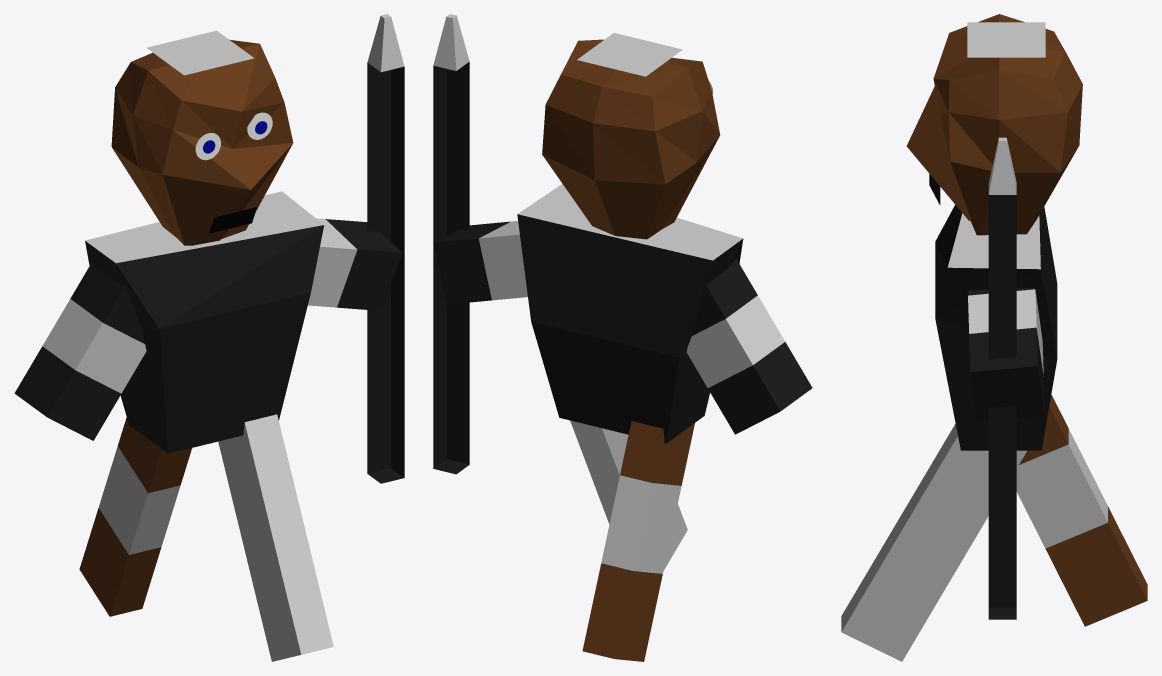
The model's file is spearman3.obj.
3 renders of one model, left to right at view 1: azimuth 30°, elevation 25°; view 2: azimuth 150°, elevation 25°; view 3: azimuth 270°, elevation 25°, orthographic. The views are drawn at different scales.
Parts seen in each view (by area): view 1: Cube.001, Cube, Cube.005, Cube.007, Cube.003, Cube.004, Cube.002, Plane.002, Plane; view 2: Cube.001, Cube, Cube.004, Cube.007, Cube.003, Cube.002, Cube.005, Plane.002; view 3: Cube, Cube.005, Cube.004, Cube.001, Cube.007, Cube.002, Plane.002.
Boxes of the visible parts, bbox=[...] form: Cube.001: bbox=[85, 191, 324, 453]; Cube: bbox=[111, 39, 293, 245]; Cube.005: bbox=[218, 414, 333, 661]; Cube.007: bbox=[367, 14, 404, 483]; Cube.003: bbox=[14, 264, 146, 440]; Cube.004: bbox=[79, 417, 191, 616]; Cube.002: bbox=[308, 218, 402, 310]; Plane.002: bbox=[146, 30, 253, 75]; Plane: bbox=[209, 207, 257, 233]; Cube.001: bbox=[517, 184, 743, 443]; Cube: bbox=[542, 39, 720, 239]; Cube.004: bbox=[582, 421, 694, 661]; Cube.007: bbox=[433, 14, 469, 474]; Cube.003: bbox=[686, 259, 812, 434]; Cube.002: bbox=[433, 221, 527, 304]; Cube.005: bbox=[570, 420, 687, 570]; Plane.002: bbox=[577, 33, 682, 76]; Cube: bbox=[906, 14, 1082, 235]; Cube.005: bbox=[841, 424, 1026, 661]; Cube.004: bbox=[1016, 394, 1147, 626]; Cube.001: bbox=[935, 204, 1057, 450]; Cube.007: bbox=[988, 137, 1016, 619]; Cube.002: bbox=[967, 288, 1044, 421]; Plane.002: bbox=[967, 22, 1045, 57].
Size of the model in its own units: 3.88 by 5.88 by 2.73.
